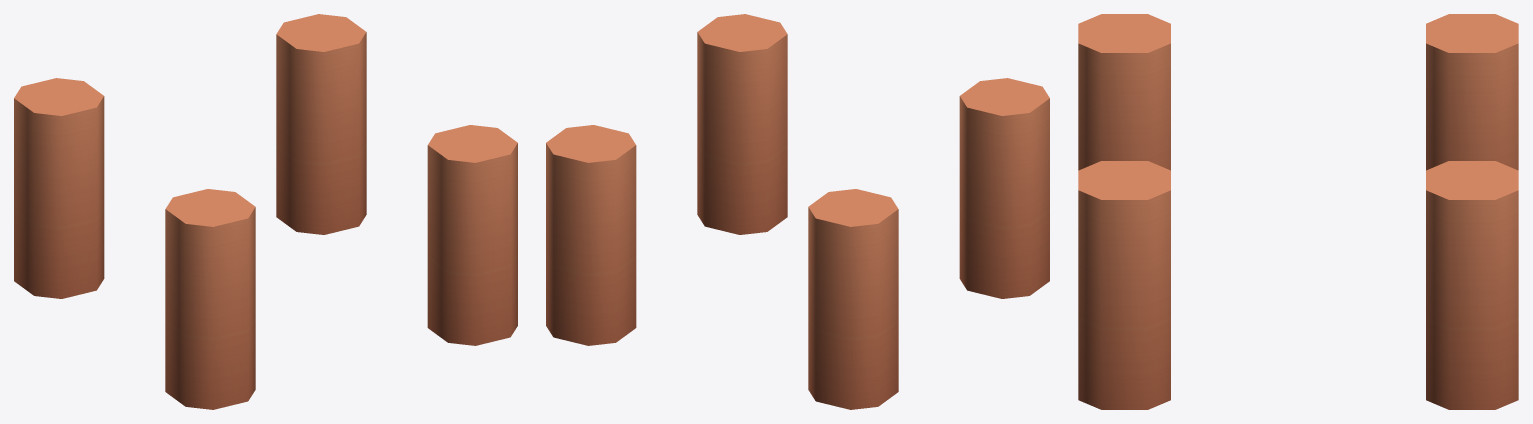
File: supports-low.glb
The picture shows the model from 3 angles, left to right: view 1: azimuth 30°, elevation 25°; view 2: azimuth 150°, elevation 25°; view 3: azimuth 270°, elevation 25°; orthographic projection. The views are drawn at different scales.
Visible parts, largest first — view 1: supports-low; view 2: supports-low; view 3: supports-low.
Part boxes in pixels (box(x1,y1,x2,y2)): supports-low: box(14, 14, 517, 409); supports-low: box(546, 14, 1049, 409); supports-low: box(1078, 14, 1518, 409).
Bounding box in the file's own units: 0.95 × 0.5 × 0.95.
1 material, 1 textured.
